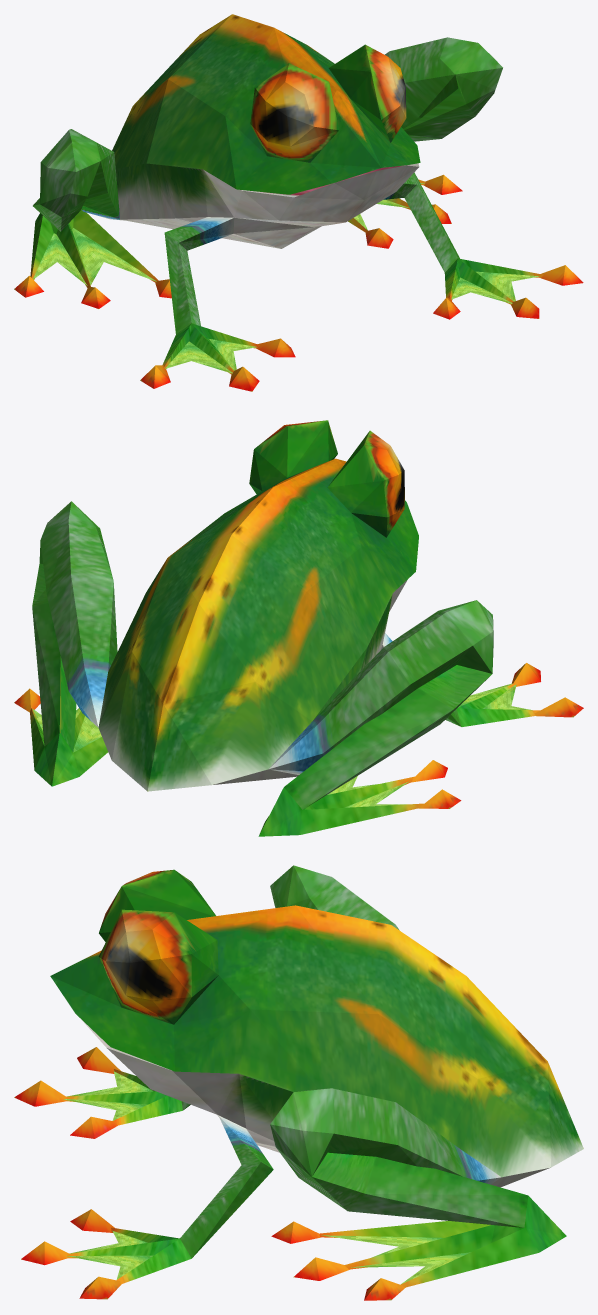
Rendered from OBJ09_FROGGREEN.obj.
3 renders of one model, top to bottom at view 1: azimuth 30°, elevation 25°; view 2: azimuth 150°, elevation 25°; view 3: azimuth 270°, elevation 25°, orthographic. The views are drawn at different scales.
Parts seen in each view (by area): view 1: Object_1; view 2: Object_1; view 3: Object_1.
Boxes of the visible parts, left/top/right/bottom form: Object_1: left=14, top=14, right=583, bottom=391; Object_1: left=14, top=420, right=583, bottom=836; Object_1: left=14, top=865, right=583, bottom=1300.
Bounding box in the file's own units: 41.39 × 21.88 × 39.31.
